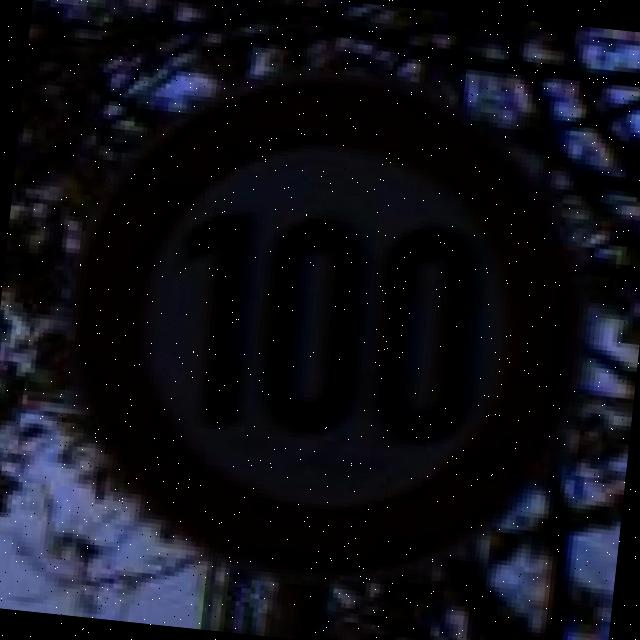Ograniczenie predkosci do 100: (33, 34, 611, 612)
